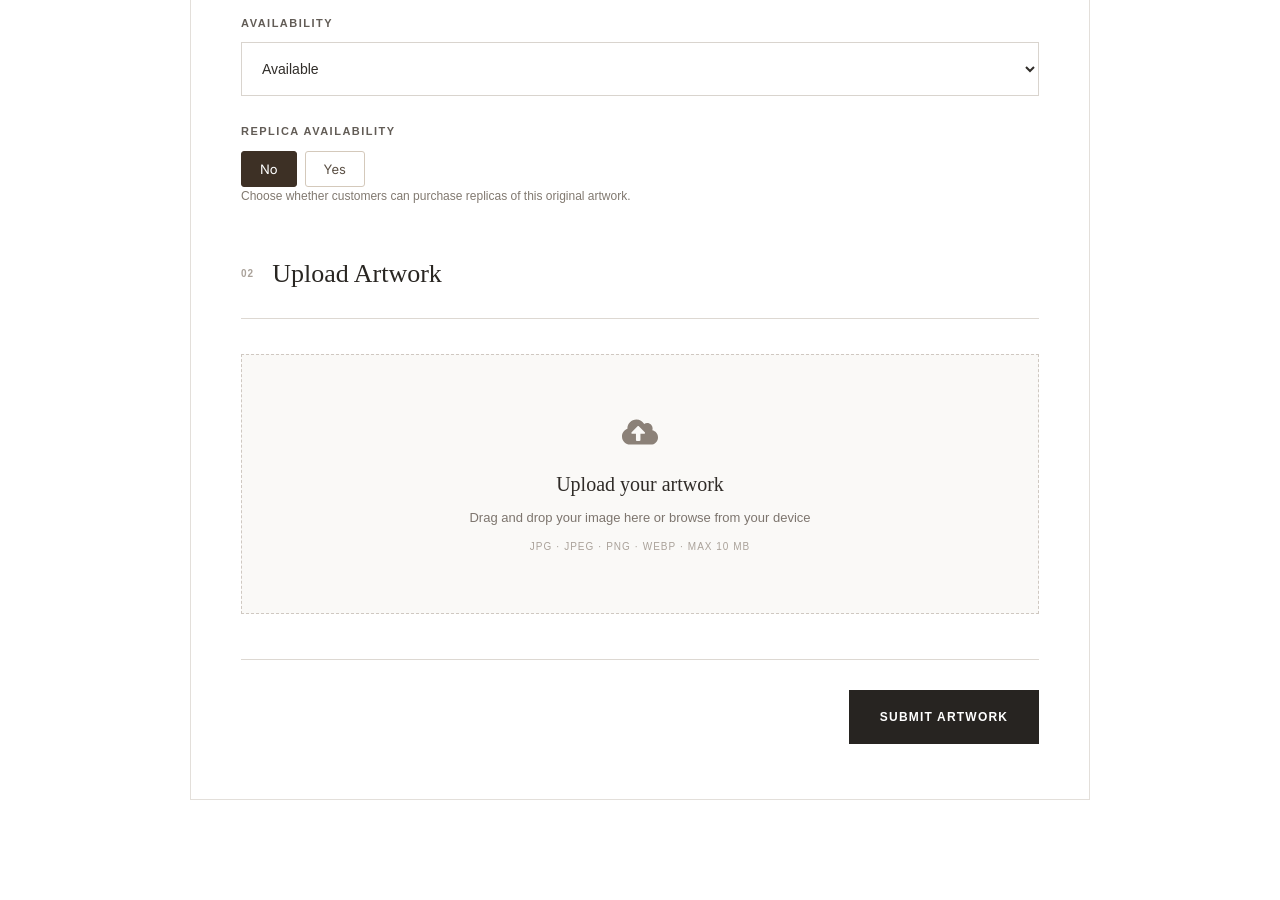
Login page › should show validation error when artwork title is empty
(page scrolled)
Click the button "Submit Artwork": (944, 717) top-left (849, 690), bottom-right (1039, 744)
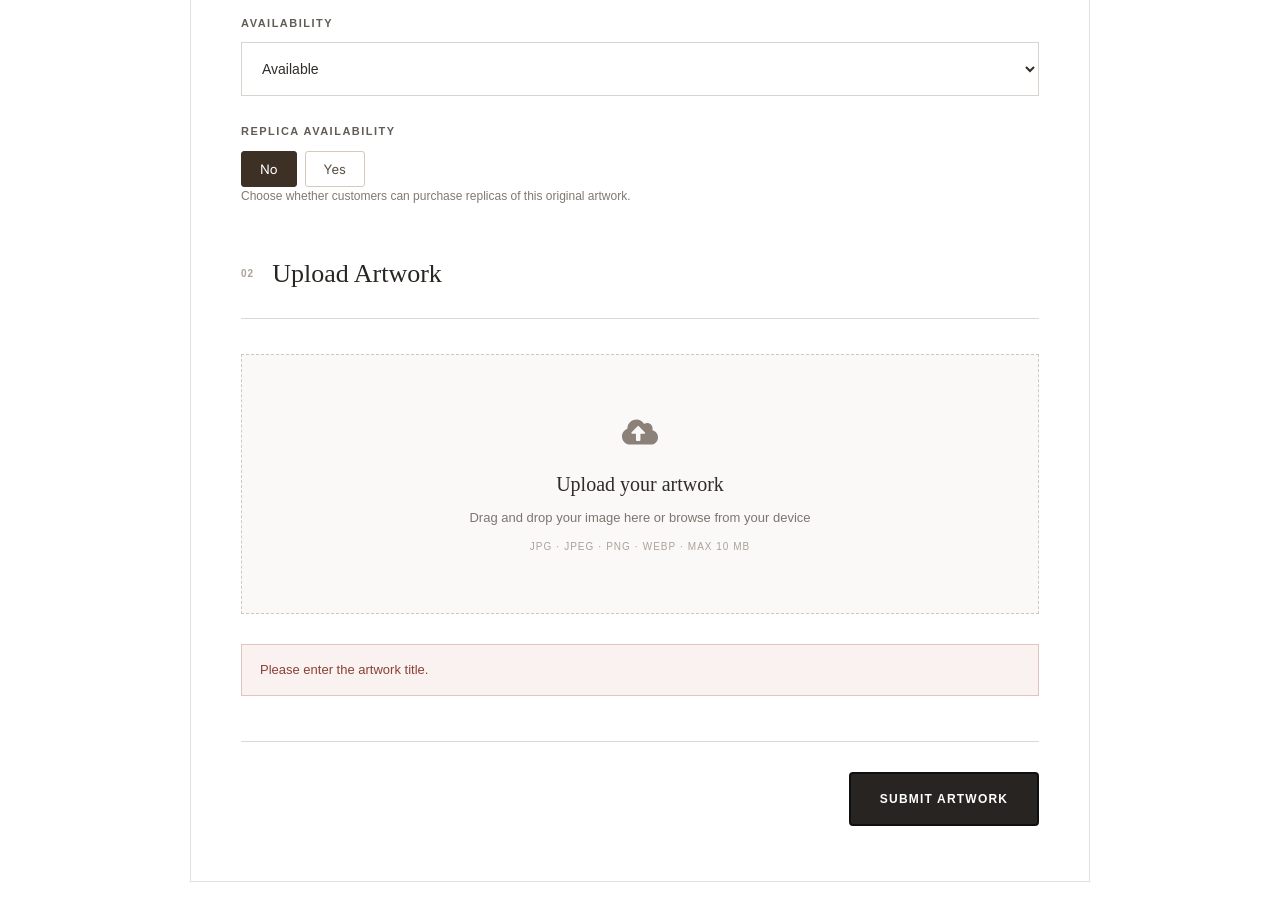
Expected: the text "Please enter the artwork title." is shown, top-left (241, 644), bottom-right (1039, 696)
